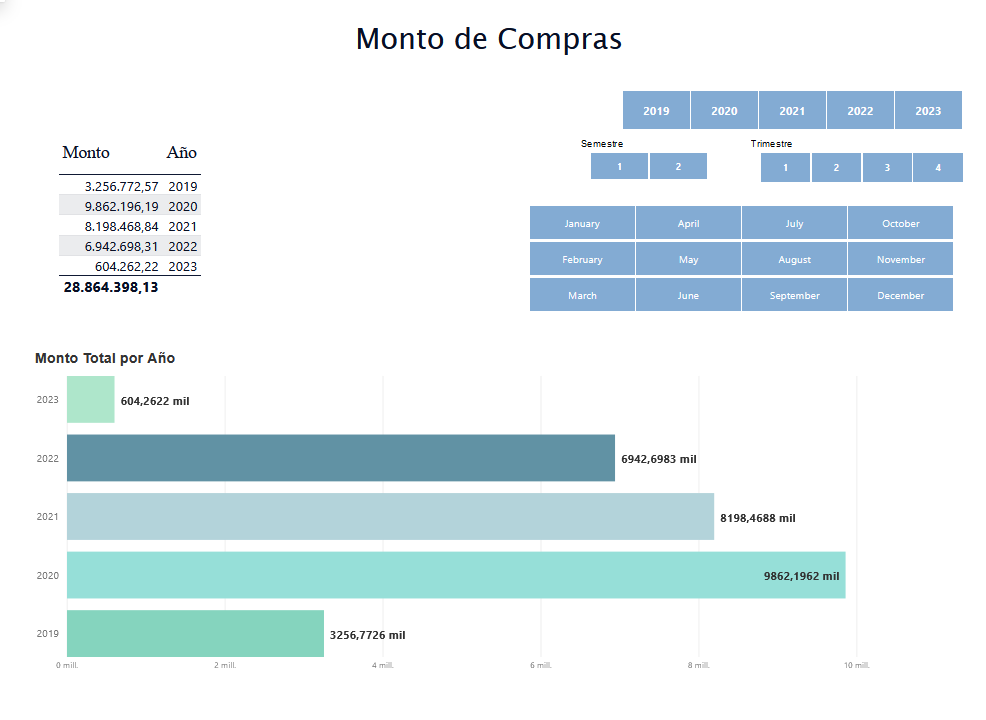

The dashboard page shown, as its layout file describes it:
{"tool":"powerbi","page":{"name":"MontoCompras-Fecha","canvas":[1280,875],"ordinal":0},"visuals":[{"type":"tableEx","fields":{"Values":["factordencompra.Total de net_total para orden_key","dimdate.year"]},"box":[71.8,176.8,253.8,231],"z":0},{"type":"textbox","box":[363.8,17,550.8,74.8],"z":1000},{"type":"clusteredBarChart","title":"Monto Total por Año","fields":{"Y":["factordencompra.MontoTotal"],"Category":["dimdate.year"]},"box":[42,449.8,1169,425.2],"z":2000},{"type":"slicer","fields":{"Values":["dimdate.year"]},"box":[780.5,110.2,486.5,63],"z":3000},{"type":"slicer","fields":{"Values":["dimdate.semestre"]},"box":[738.5,173.2,199.5,64.8],"z":4000},{"type":"slicer","fields":{"Values":["dimdate.trimestre"]},"box":[957.2,173.2,309.8,68.2],"z":5000},{"type":"slicer","fields":{"Values":["dimdate.fecha.Variación.Date Hierarchy.Month"]},"box":[659.8,259,595,148.8],"z":6000}]}

Visuals, with their boxes on the page's 1280x875 design canvas (x1, y1, x2, y2). These are canvas units, not pixel positions in the 986x720 screenshot, which may show the page scaled, cropped or inside an application window:
tableEx - factordencompra.Total de net_total para orden_key x dimdate.year: {"left": 72, "top": 177, "right": 326, "bottom": 408}
textbox: {"left": 364, "top": 17, "right": 915, "bottom": 92}
"Monto Total por Año" clusteredBarChart: {"left": 42, "top": 450, "right": 1211, "bottom": 875}
slicer - dimdate.year: {"left": 780, "top": 110, "right": 1267, "bottom": 173}
slicer - dimdate.semestre: {"left": 738, "top": 173, "right": 938, "bottom": 238}
slicer - dimdate.trimestre: {"left": 957, "top": 173, "right": 1267, "bottom": 241}
slicer - dimdate.fecha.Variación.Date Hierarchy.Month: {"left": 660, "top": 259, "right": 1255, "bottom": 408}
